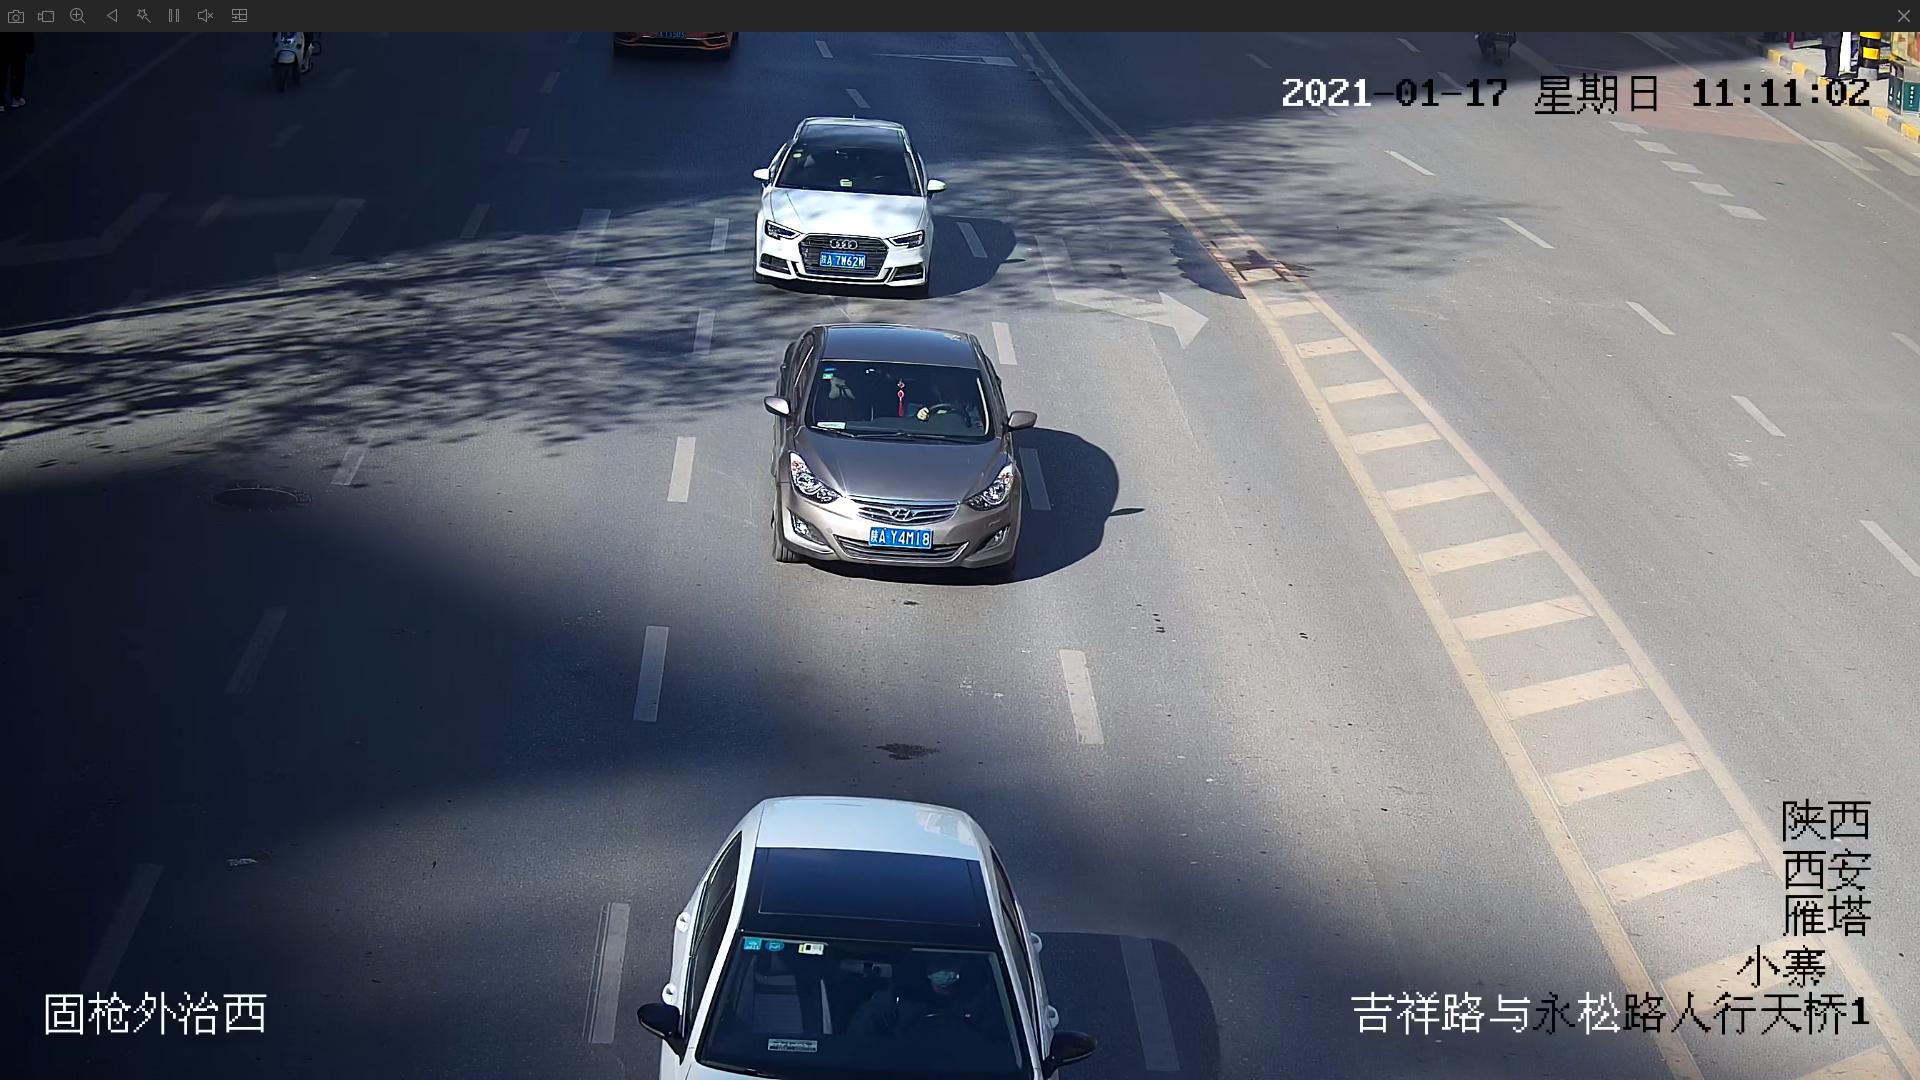gray: (758, 322, 1030, 578)
white: (749, 109, 942, 298)
